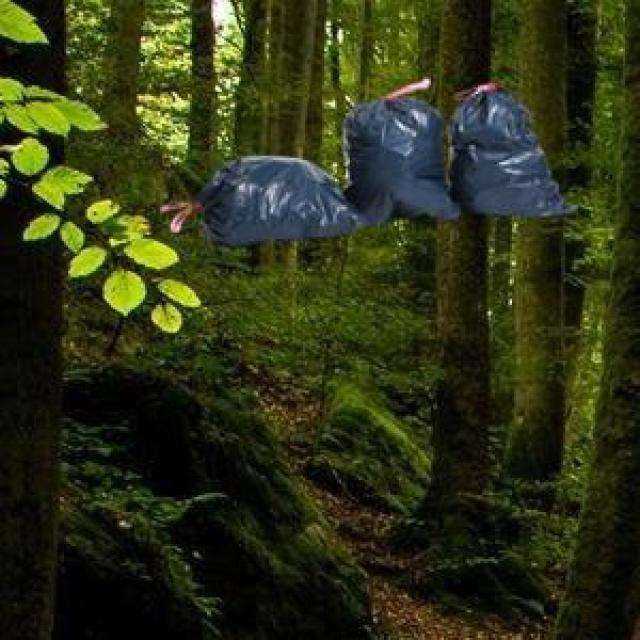Vinyl: (199, 85, 568, 245)
